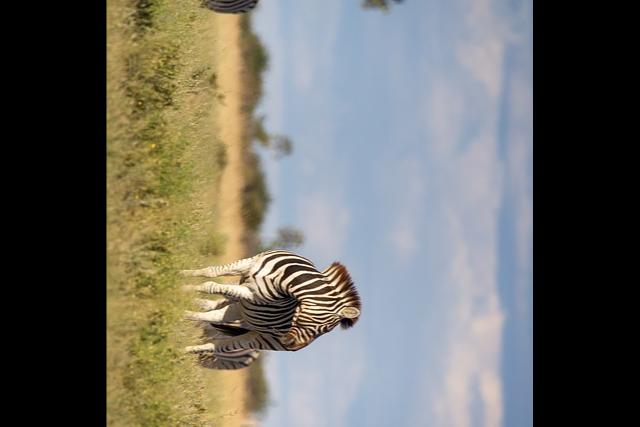Non_Gorille: (156, 0, 476, 427)
